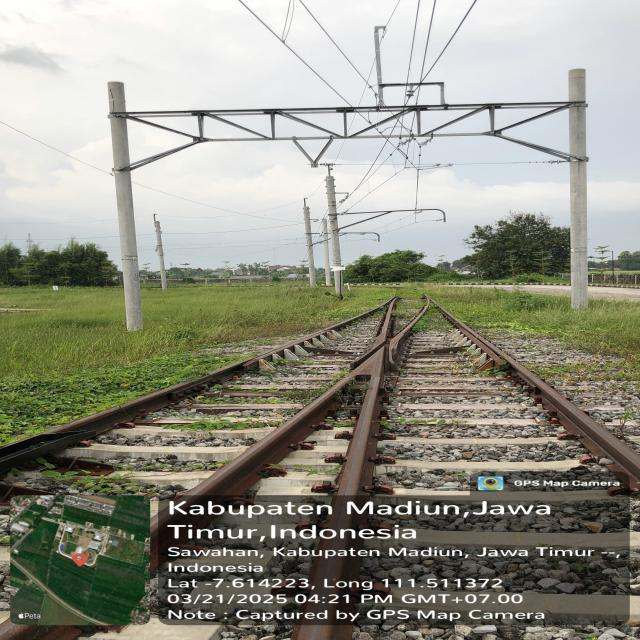rail-detection: (0, 297, 435, 533), (440, 307, 640, 487), (292, 555, 360, 640), (151, 506, 179, 569)
